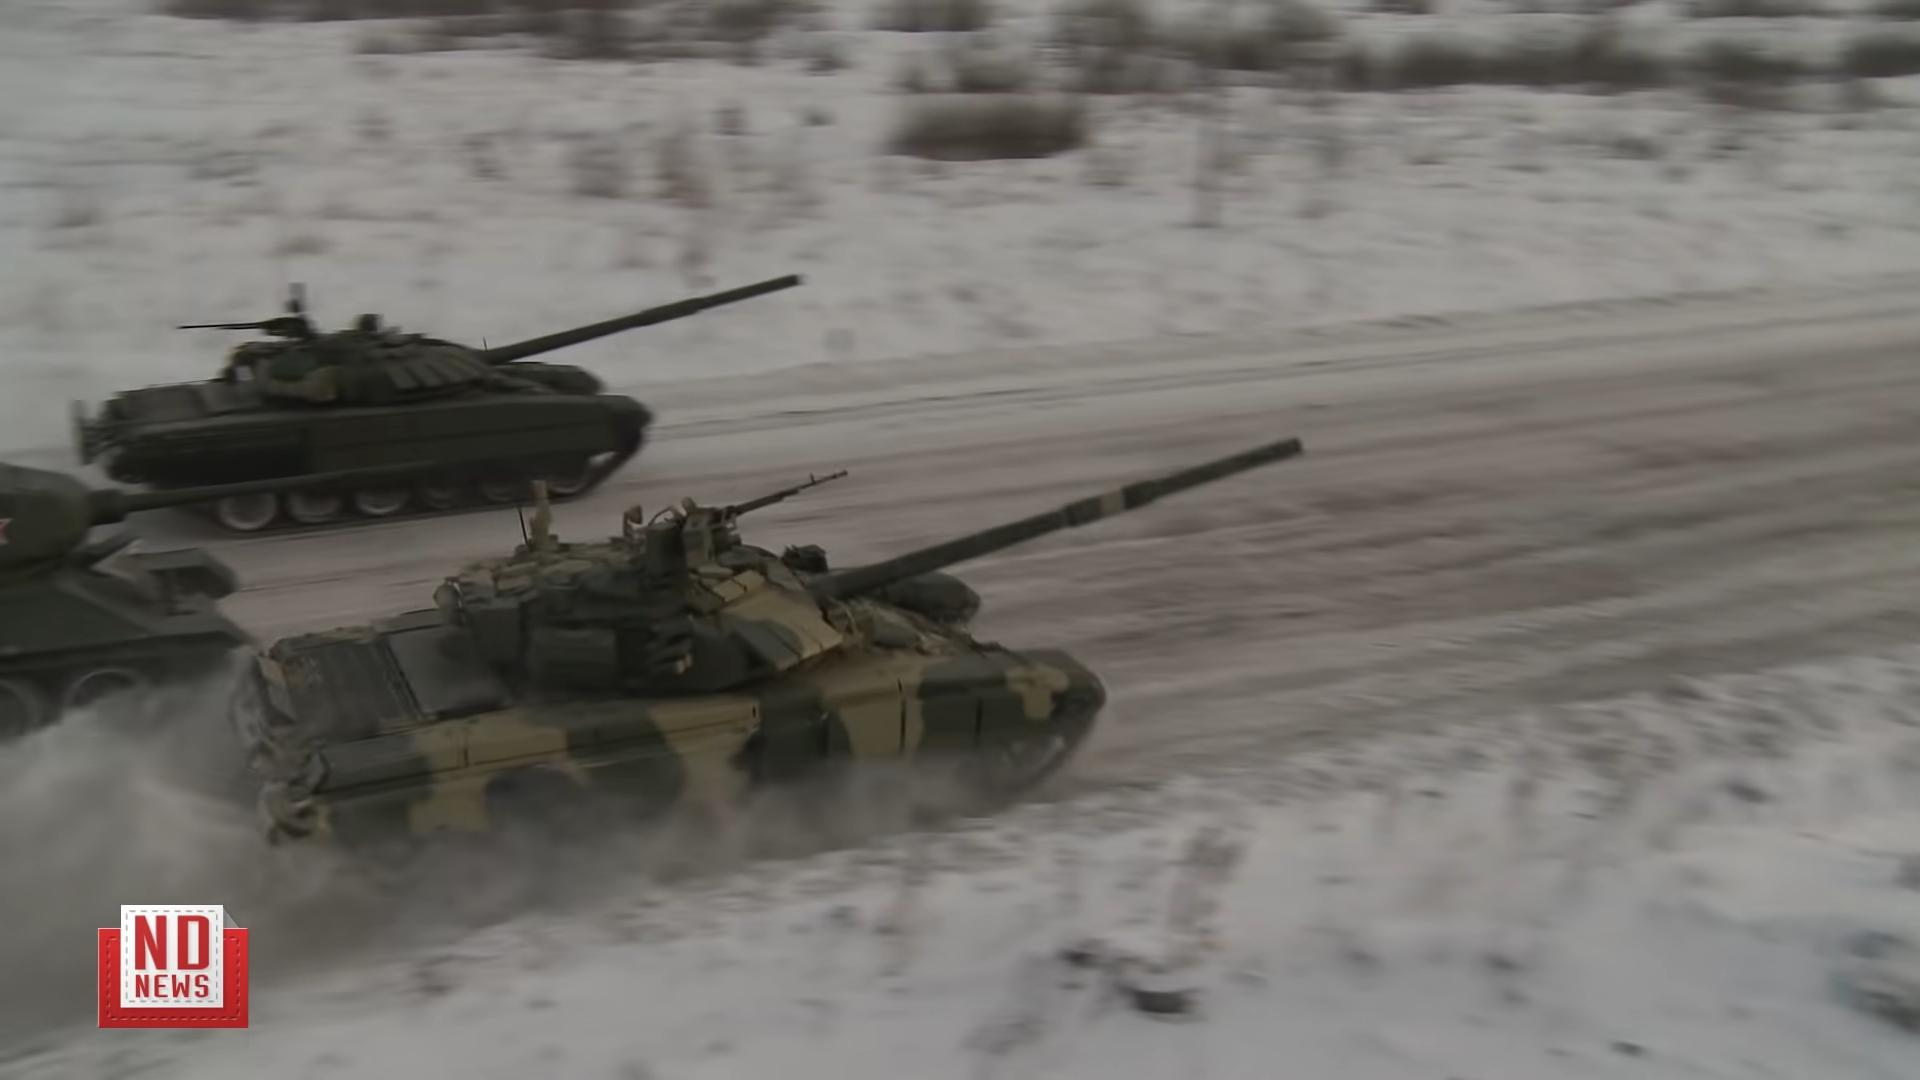tank: (233, 439, 1304, 938), (76, 276, 803, 533), (0, 460, 422, 741)
